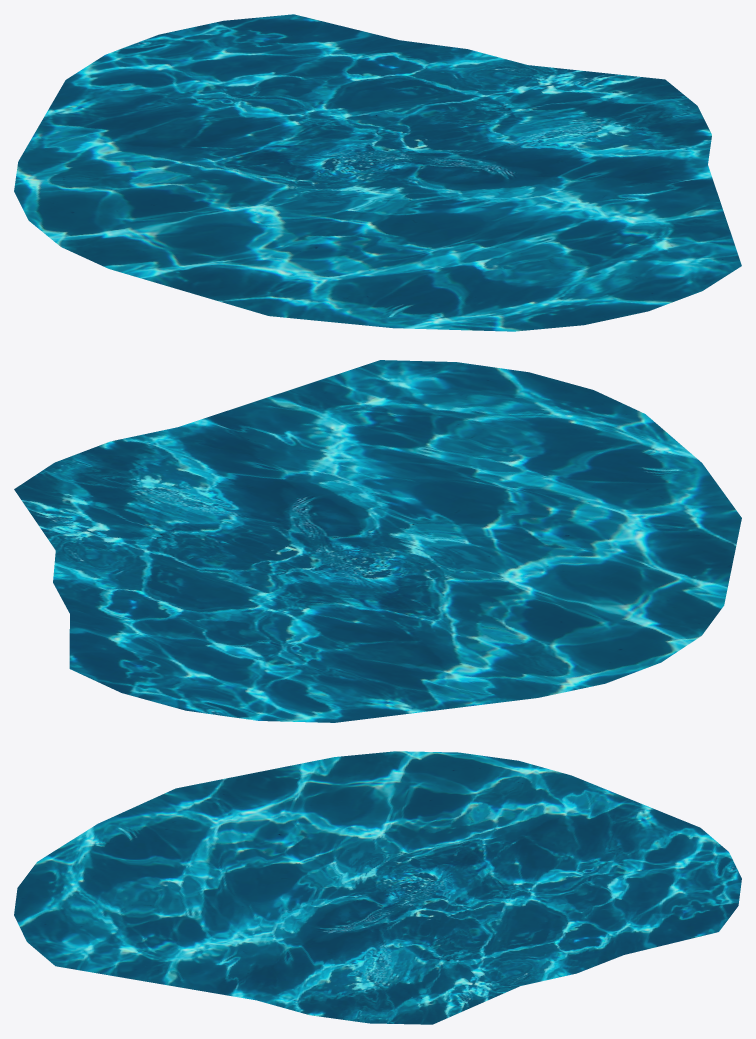
File: AguaCazuela_Picapiedras.obj
The picture shows the model from 3 angles, top to bottom: view 1: azimuth 30°, elevation 25°; view 2: azimuth 150°, elevation 25°; view 3: azimuth 270°, elevation 25°; orthographic projection. The views are drawn at different scales.
Visible parts, largest first — view 1: cupa_obj1:pDisc1; view 2: cupa_obj1:pDisc1; view 3: cupa_obj1:pDisc1.
Boxes of the visible parts, bbox=[...] form: cupa_obj1:pDisc1: bbox=[14, 14, 741, 331]; cupa_obj1:pDisc1: bbox=[14, 360, 741, 722]; cupa_obj1:pDisc1: bbox=[14, 751, 741, 1024].
Size of the model in its own units: 615 by 2.86e-06 by 692.
1 material, 1 textured.
